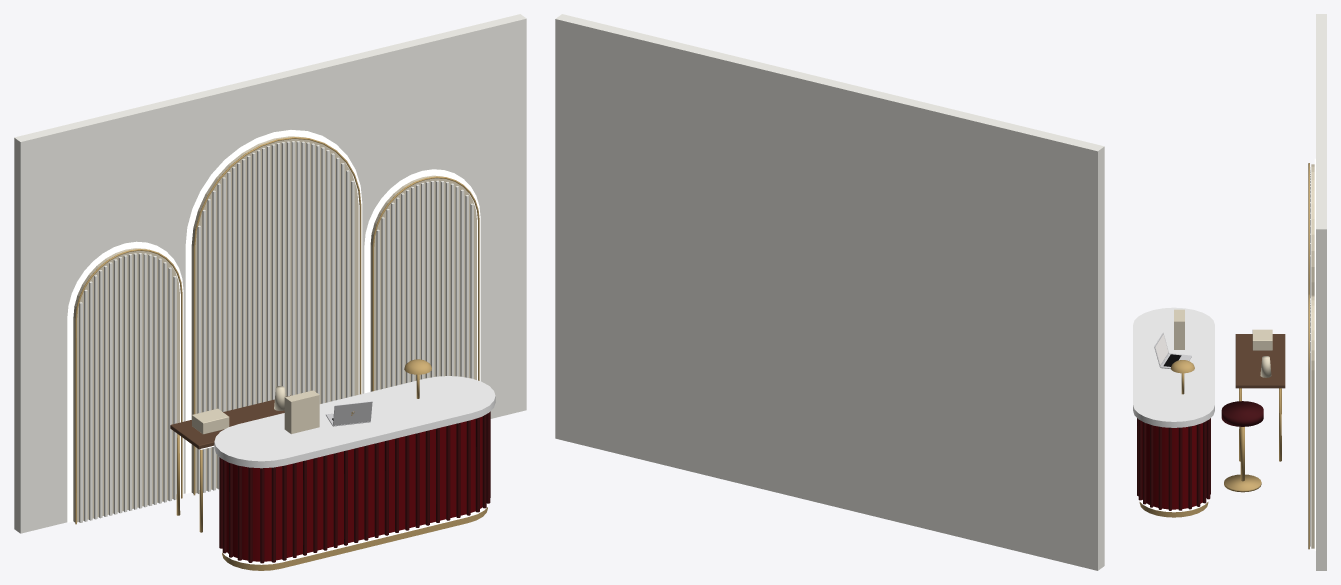
File: caisse.glb
3 renders of one model, left to right at view 1: azimuth 30°, elevation 25°; view 2: azimuth 150°, elevation 25°; view 3: azimuth 270°, elevation 25°, orthographic. The views are drawn at different scales.
Visible parts, largest first — view 1: Caisse_Mur, Caisse_Arche_Cannelures_Centre, Caisse_Arche_Cannelures_Gauche, Caisse_Arche_Fond_Centre, Caisse_Arche_Cannelures_Droite, Caisse_Corps, Caisse_Cannelures, Caisse_Plateau_Marbre, Caisse_Arche_Fond_Gauche, Caisse_Arche_Fond_Droite, Caisse_Arche_Halo_Centre, Caisse_Arche_Halo_Gauche (+10 smaller); view 2: Caisse_Mur; view 3: Caisse_Plateau_Marbre, Caisse_Mur, Caisse_Cannelures, Caisse_Corps, Caisse_Bureau_Plateau, Caisse_Arche_Fond_Droite, Caisse_Tabouret_Assise, Caisse_Tabouret_Base, Caisse_Arche_Fond_Centre, Caisse_Arche_Halo_Droite, Caisse_Arche_Filet_Droite, Caisse_Bureau_Boites (+7 smaller).
Part boxes in pixels (x1,y1,x2,y2): Caisse_Mur: (14,14,526,533); Caisse_Arche_Cannelures_Centre: (197,141,354,493); Caisse_Arche_Cannelures_Gauche: (79,253,176,522); Caisse_Arche_Fond_Centre: (191,136,358,493); Caisse_Arche_Cannelures_Droite: (376,180,473,390); Caisse_Corps: (226,416,482,561); Caisse_Cannelures: (219,411,490,563); Caisse_Plateau_Marbre: (214,376,495,468); Caisse_Arche_Fond_Gauche: (73,248,179,522); Caisse_Arche_Fond_Droite: (370,175,476,391); Caisse_Arche_Halo_Centre: (185,130,362,493); Caisse_Arche_Halo_Gauche: (67,241,183,522); Caisse_Mur: (555,14,1104,570); Caisse_Plateau_Marbre: (1133,307,1214,427); Caisse_Mur: (1316,14,1326,570); Caisse_Cannelures: (1137,418,1210,510); Caisse_Corps: (1142,421,1206,509); Caisse_Bureau_Plateau: (1235,334,1285,388); Caisse_Arche_Fond_Droite: (1311,295,1314,548); Caisse_Tabouret_Assise: (1221,401,1263,426); Caisse_Tabouret_Base: (1224,474,1261,492); Caisse_Arche_Fond_Centre: (1311,164,1314,295); Caisse_Arche_Halo_Droite: (1314,290,1315,550); Caisse_Arche_Filet_Droite: (1308,294,1309,549); Caisse_Bureau_Boites: (1252,329,1272,350).
Size of the model in its own units: 4.6 by 3.4 by 1.75.
